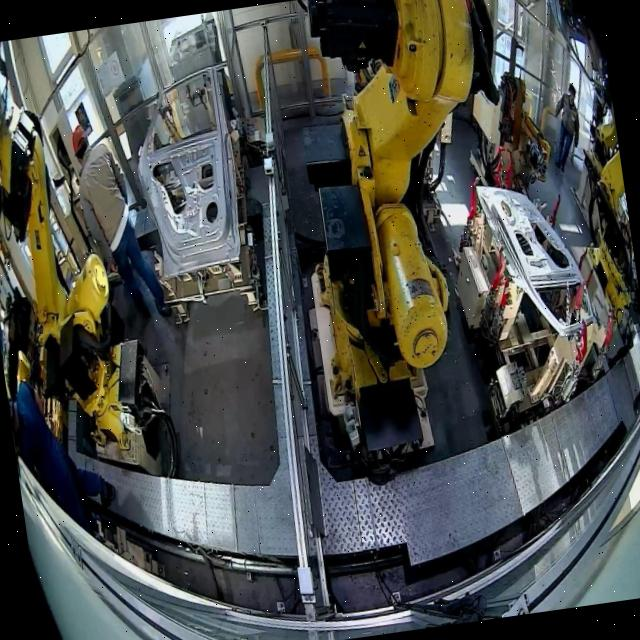Person: (5, 346, 121, 546), (68, 116, 172, 330), (544, 82, 586, 173)
